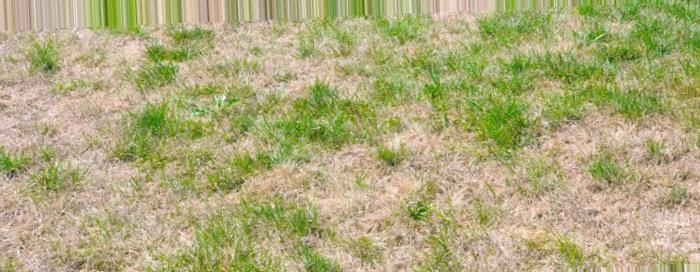patch: (255, 139, 446, 235), (512, 153, 682, 240), (80, 157, 193, 234), (1, 58, 107, 139), (287, 54, 418, 108), (9, 170, 89, 248), (118, 53, 216, 110), (550, 113, 652, 139), (234, 34, 275, 93), (543, 24, 600, 60), (437, 19, 491, 52)
